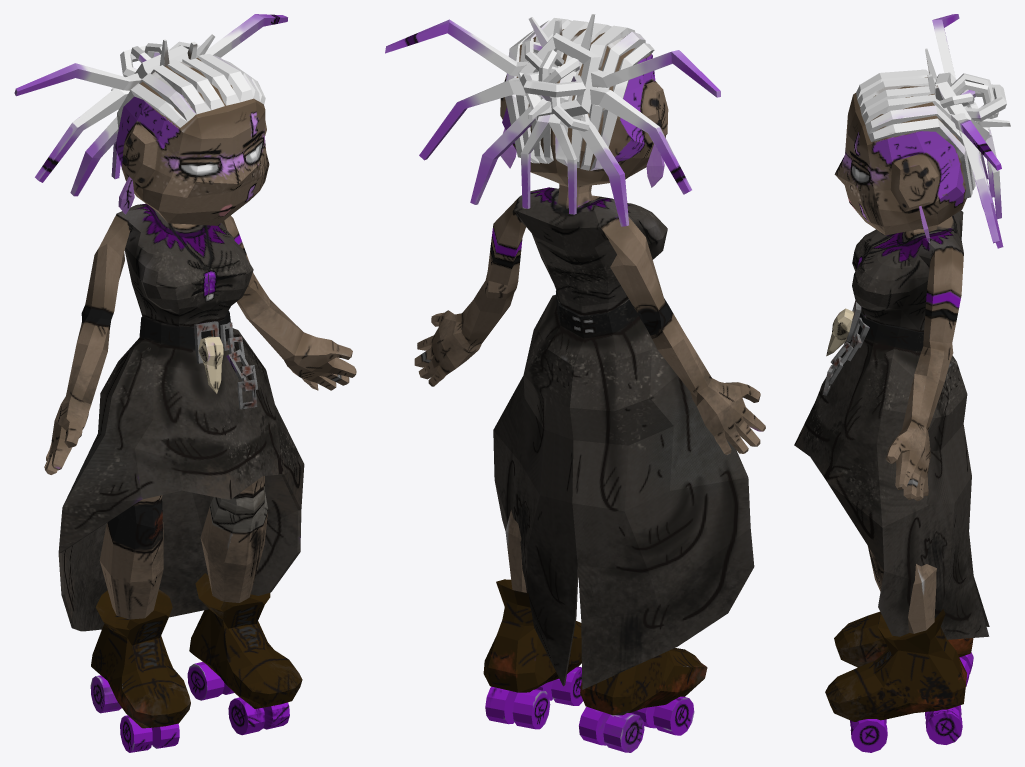
File: bruja_000081.obj
3 views of the same model, side by side, from view 1: azimuth 30°, elevation 25°; view 2: azimuth 150°, elevation 25°; view 3: azimuth 270°, elevation 25° (orthographic). The views are drawn at different scales.
Visible parts, largest first — view 1: Bruja_Plane.001; view 2: Bruja_Plane.001; view 3: Bruja_Plane.001.
Boxes of the visible parts, bbox=[...] form: Bruja_Plane.001: bbox=[14, 14, 356, 752]; Bruja_Plane.001: bbox=[385, 14, 765, 752]; Bruja_Plane.001: bbox=[794, 14, 1010, 752].
Bounding box in the file's own units: 7.96 × 16.48 × 4.88.
